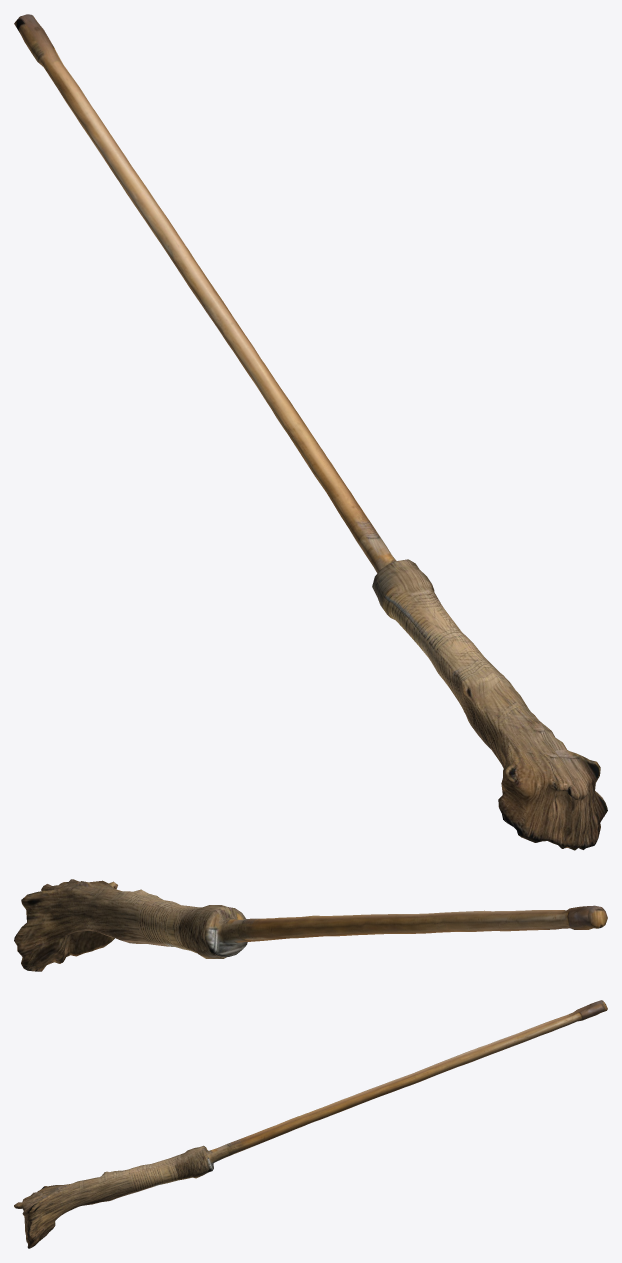
3 renders of one model, top to bottom at view 1: azimuth 30°, elevation 25°; view 2: azimuth 210°, elevation 25°; view 3: azimuth 270°, elevation 25°, orthographic. The views are drawn at different scales.
Visible parts, largest first — view 1: Mesh1.0; view 2: Mesh1.0; view 3: Mesh1.0.
Boxes of the visible parts, x1,y1,x2,y2 form: Mesh1.0: (14, 14, 607, 850); Mesh1.0: (14, 879, 607, 971); Mesh1.0: (14, 1000, 607, 1248).
Size of the model in its own units: 18.81 by 89.88 by 201.
Materials: 1 (1 with a texture image).
